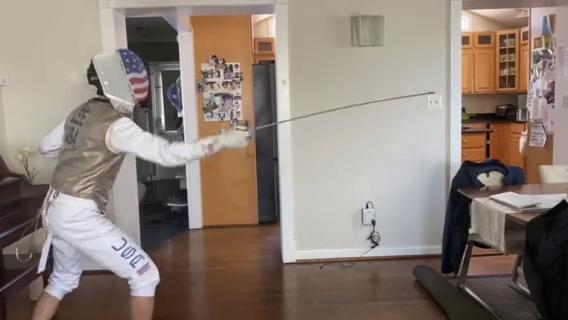blade-guard: (241, 119, 256, 140)
blade-tip: (380, 91, 436, 101)
fencing-blade: (236, 89, 438, 143)
